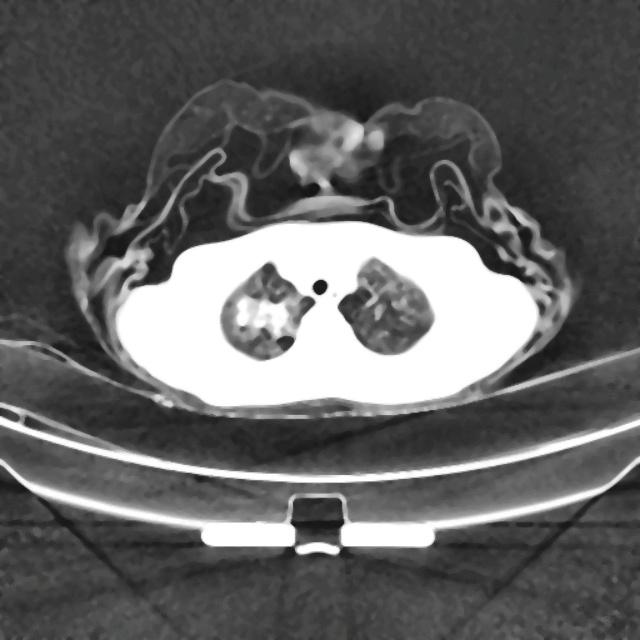covid: (64, 77, 579, 420)
